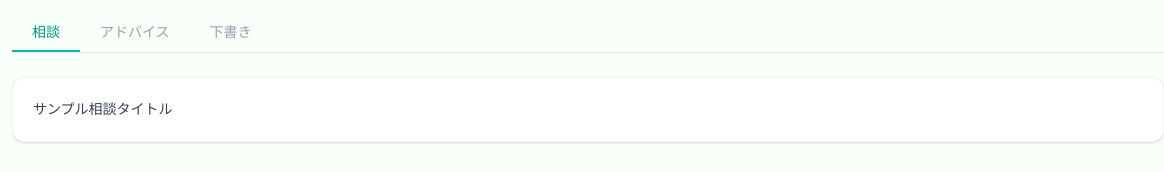
Test: UserContentTabs 下書きタブ › 相談・アドバイスの下書き取得が両方失敗するとタブ全体をエラー表示にする
Click the button "下書き": (231, 32) top-left (190, 12), bottom-right (272, 52)
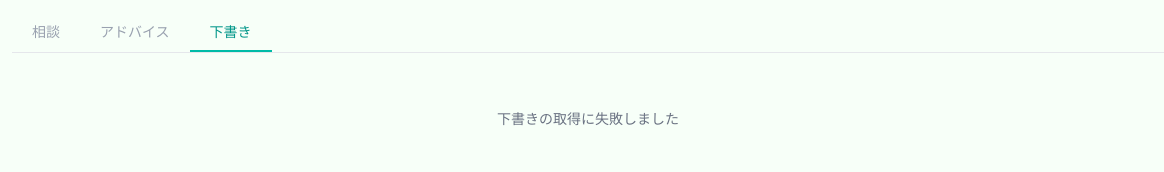
Result: the message reads "下書きの取得に失敗しました" at top-left (497, 109), bottom-right (679, 128)
